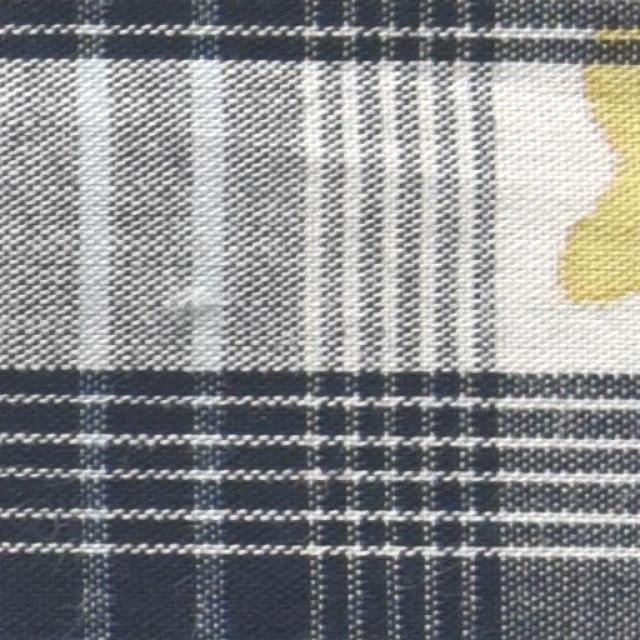Stain: (551, 14, 639, 314)
